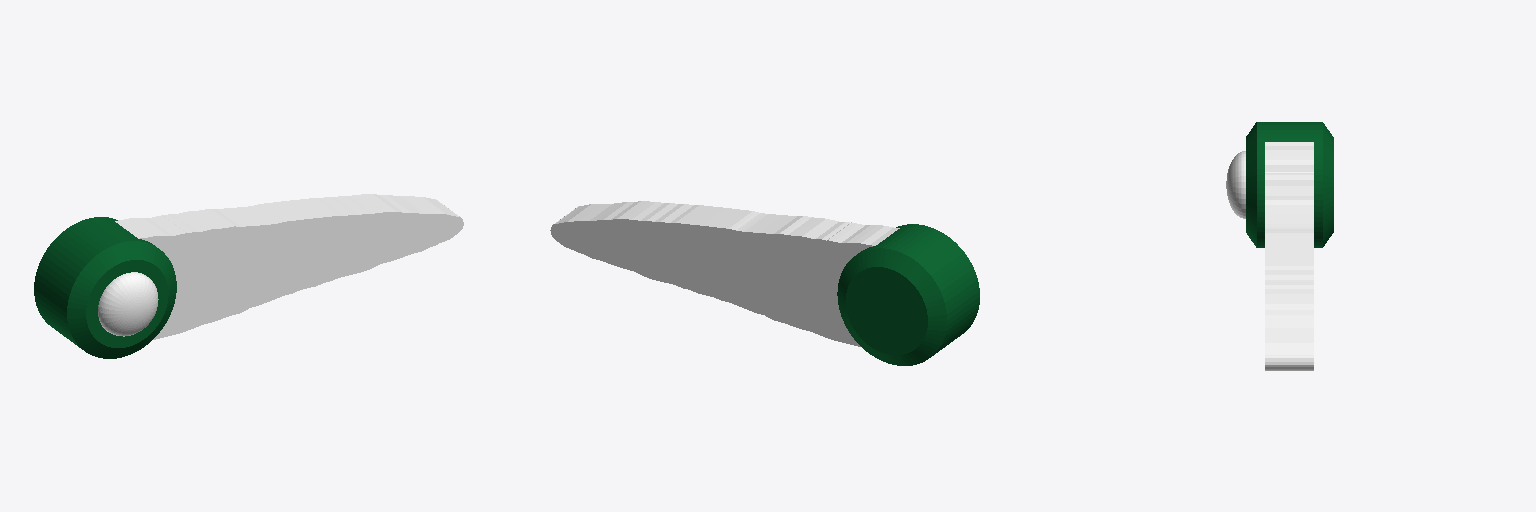
The model's file is tinker.obj.
The picture shows the model from 3 angles: view 1: azimuth 30°, elevation 25°; view 2: azimuth 150°, elevation 25°; view 3: azimuth 270°, elevation 25°; orthographic projection.
Visible parts, largest first — view 1: obj_0; view 2: obj_0; view 3: obj_0.
Part boxes in pixels (x1,y1,x2,y2): obj_0: (34, 194, 463, 358); obj_0: (550, 201, 979, 365); obj_0: (1226, 122, 1333, 370).
Size of the model in its own units: 47.48 by 13 by 11.